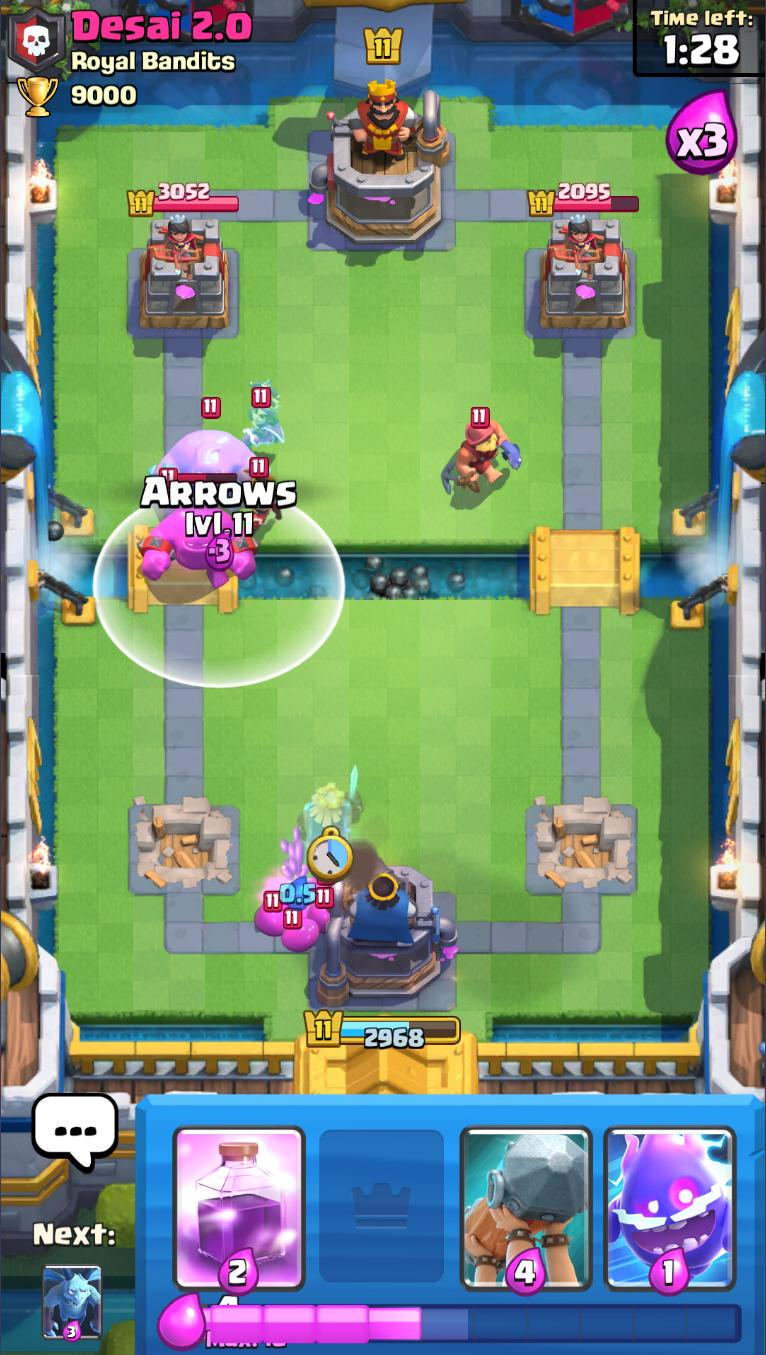BattleRamDeck: (455, 1096, 598, 1299)
ElectroSpiritDeck: (598, 1094, 743, 1296)
Elixir: (202, 1295, 743, 1351)
ElixirGolem: (137, 467, 259, 589)
ElixirGolemCloned: (148, 396, 269, 511)
ElixirGolemMicro: (253, 889, 292, 936), (277, 908, 316, 953), (307, 887, 334, 926)
Empty: (311, 1096, 455, 1297)
EnemyTower: (536, 215, 633, 333), (136, 215, 231, 333)
FisherMan: (439, 407, 523, 494)
KingTower: (310, 77, 453, 248)
LittlePrince: (233, 459, 283, 537)
LittlePrinceCloned: (238, 380, 289, 455)
MinionsNext: (42, 1264, 104, 1342)
MyKingHP: (302, 1006, 462, 1050)
MyKingTower: (316, 858, 459, 1009)
MyPrincessTowerBrocken: (524, 801, 639, 900), (127, 801, 241, 896)
MyRoyaleGhost: (296, 764, 364, 849)
PrincessTower: (550, 214, 605, 276), (151, 215, 206, 275)
RageDeck: (167, 1095, 312, 1295)
TowerPrincessHP: (527, 180, 641, 217), (126, 182, 240, 219)
